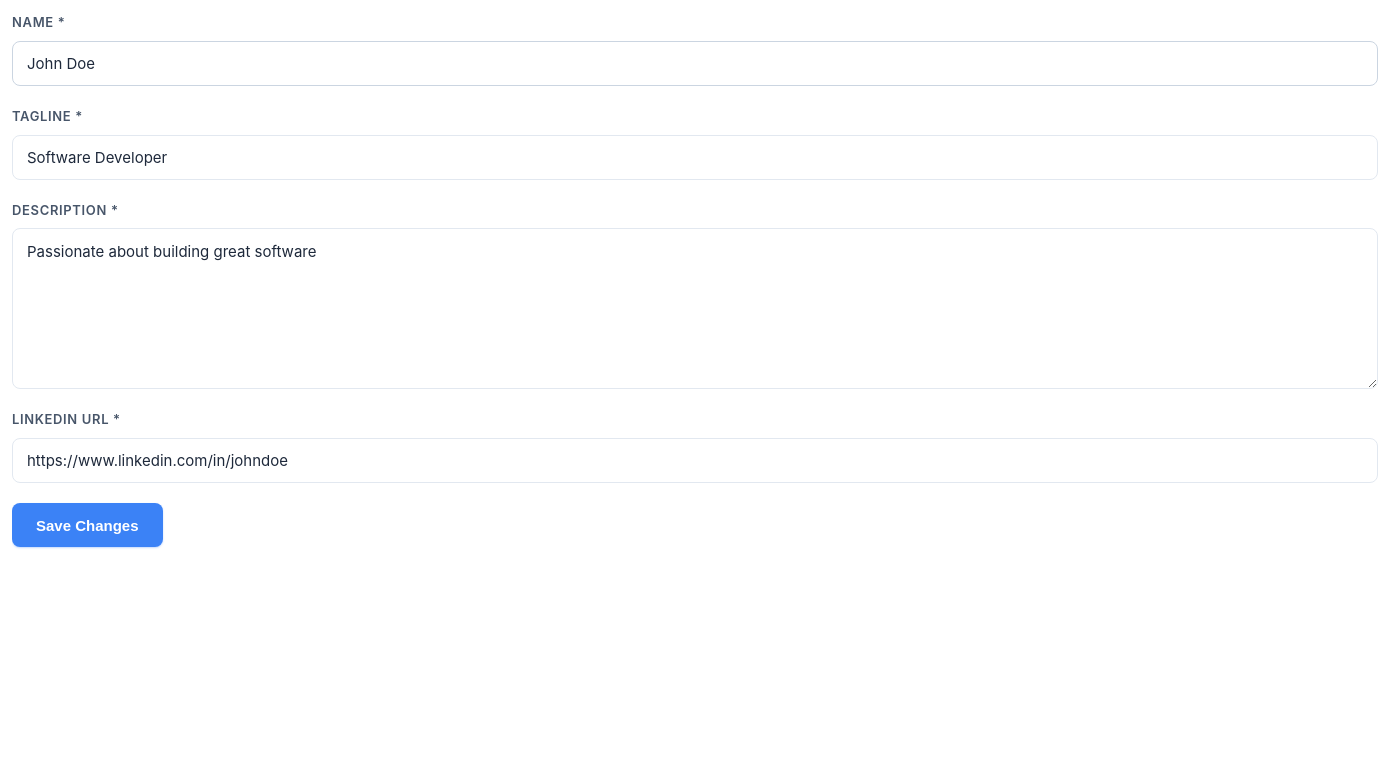
PersonalInfoForm › displays error message when save operation fails
Expected: the field labelled "Name *" is shown, left=12, top=41, right=1378, bottom=86
// Submit form with valid data
Click the button "Save Changes" at [87, 525], box left=12, top=503, right=162, bottom=547
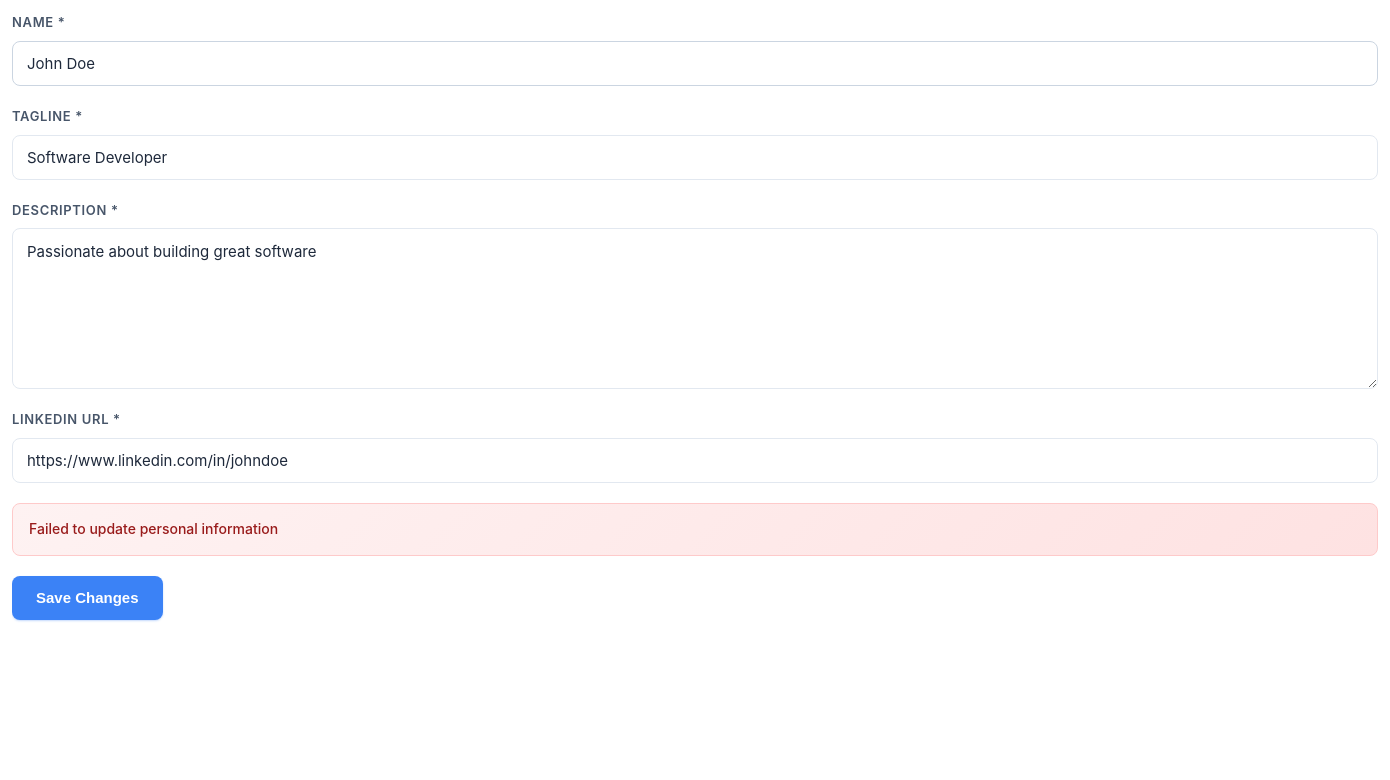
Expected: the text "Failed to update personal information" is shown, left=12, top=503, right=1378, bottom=556
